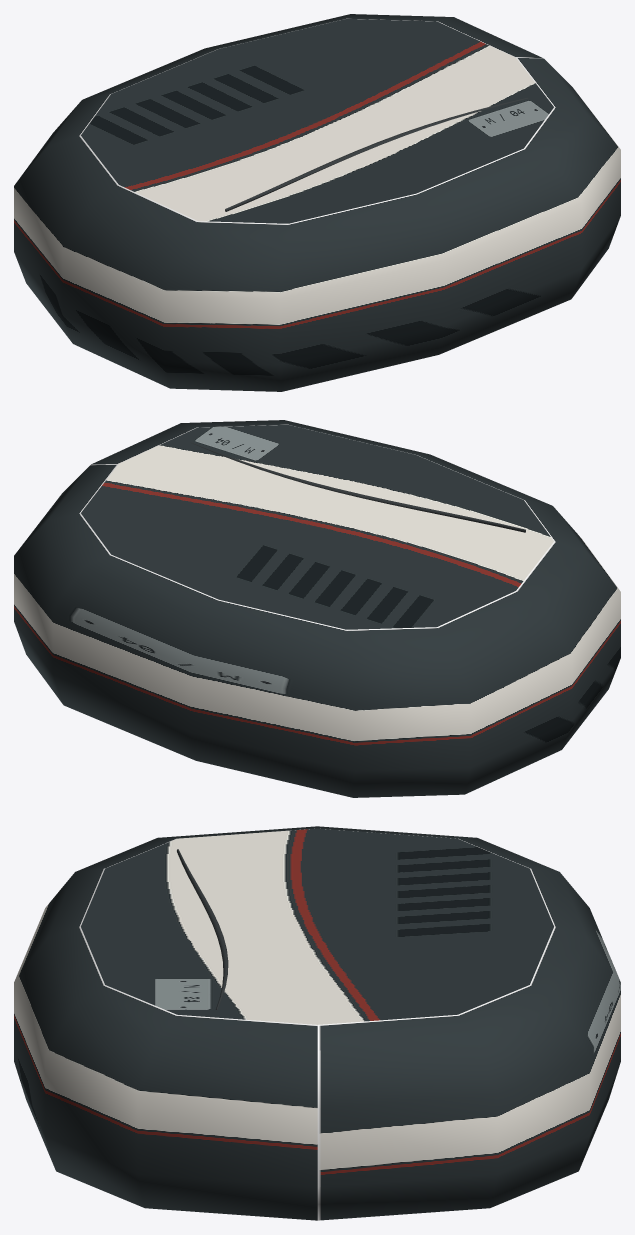
The model's file is MotorCowl_04_N_白鉛・細墨.glb.
3 renders of one model, top to bottom at view 1: azimuth 30°, elevation 25°; view 2: azimuth 150°, elevation 25°; view 3: azimuth 270°, elevation 25°, orthographic. The views are drawn at different scales.
Visible parts, largest first — view 1: MotorCowl_04_N; view 2: MotorCowl_04_N; view 3: MotorCowl_04_N.
Part boxes in pixels (x1=…): MotorCowl_04_N: x1=14, y1=14, x2=620, y2=391; MotorCowl_04_N: x1=14, y1=420, x2=620, y2=797; MotorCowl_04_N: x1=14, y1=826, x2=620, y2=1220.
Size of the model in its own units: 0.332 by 0.1188 by 0.286.
1 material, 1 textured.
